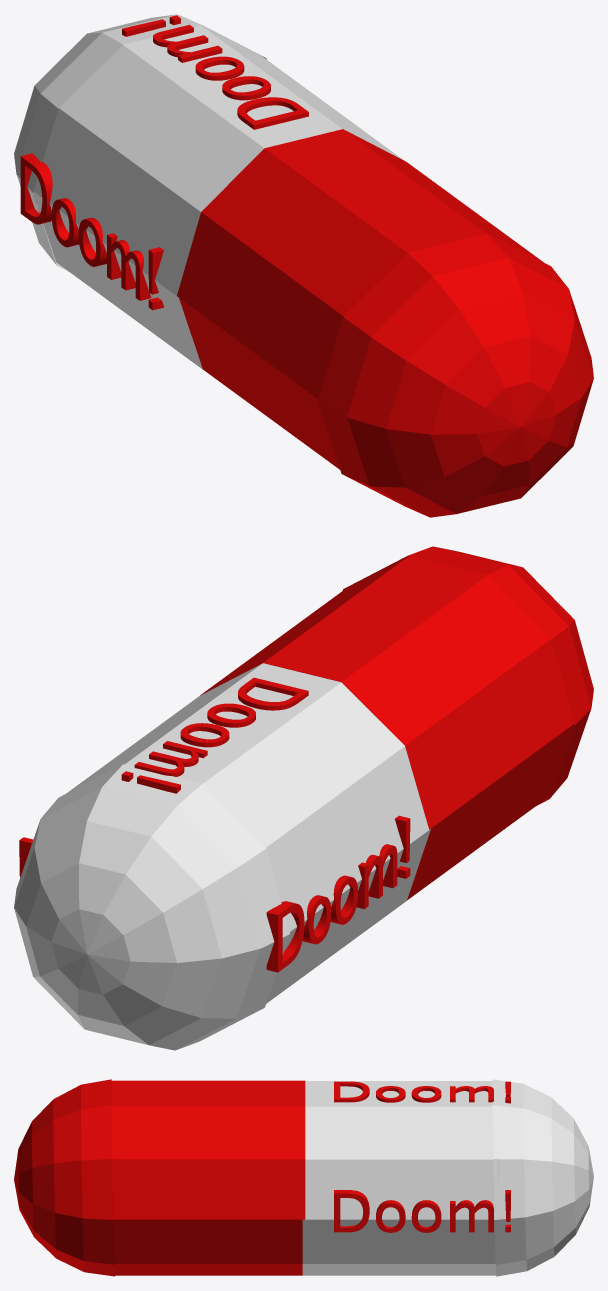
The model's file is doomsdayObj.fbx.
The picture shows the model from 3 angles, top to bottom: view 1: azimuth 30°, elevation 25°; view 2: azimuth 150°, elevation 25°; view 3: azimuth 270°, elevation 25°; orthographic projection. The views are drawn at different scales.
Parts seen in each view (by area): view 1: doomsdayObj; view 2: doomsdayObj; view 3: doomsdayObj.
Part boxes in pixels (x1,y1,x2,y2): doomsdayObj: (14,14,593,517); doomsdayObj: (14,546,593,1050); doomsdayObj: (14,1079,593,1276).
Bounding box in the file's own units: 2.07 × 1.97 × 5.99.
